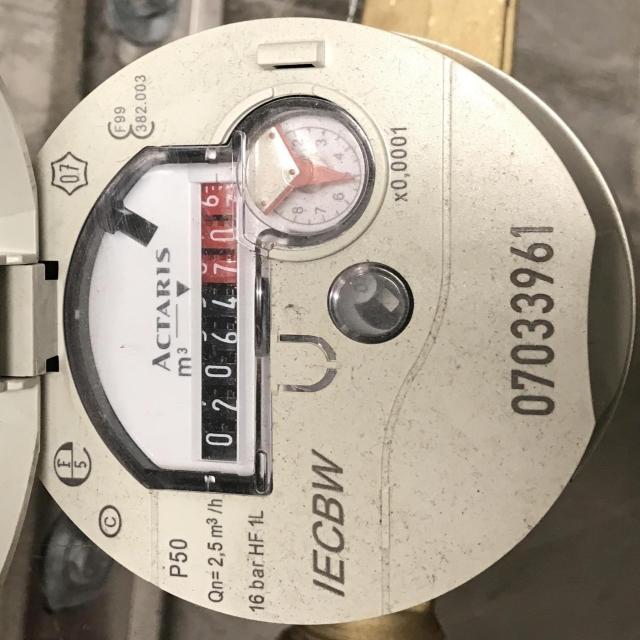gaz_meter: (19, 18, 606, 625)
indication: (199, 176, 243, 464)
